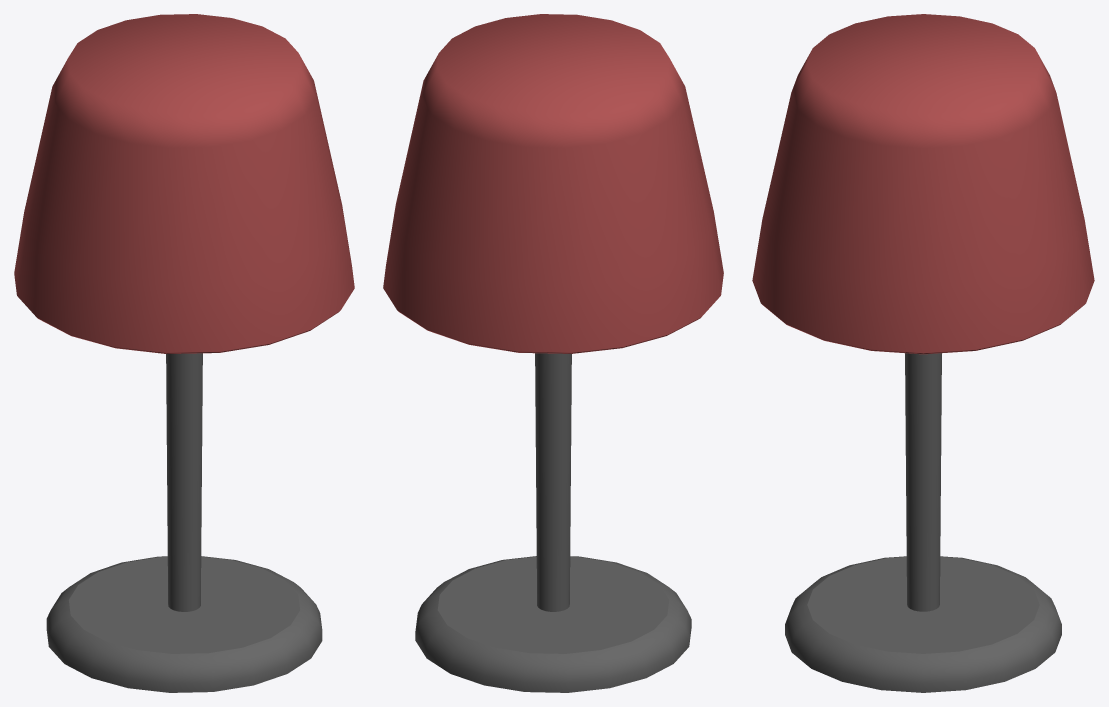
File: LampsmallGeo.fbx
3 renders of one model, left to right at view 1: azimuth 30°, elevation 25°; view 2: azimuth 150°, elevation 25°; view 3: azimuth 270°, elevation 25°, orthographic.
Visible parts, largest first — view 1: LampsmallGeo; view 2: LampsmallGeo; view 3: LampsmallGeo.
Boxes of the visible parts, bbox=[...] form: LampsmallGeo: bbox=[14, 14, 354, 692]; LampsmallGeo: bbox=[383, 14, 723, 692]; LampsmallGeo: bbox=[752, 14, 1094, 692].
Bounding box in the file's own units: 45.26 × 83.31 × 45.26.
